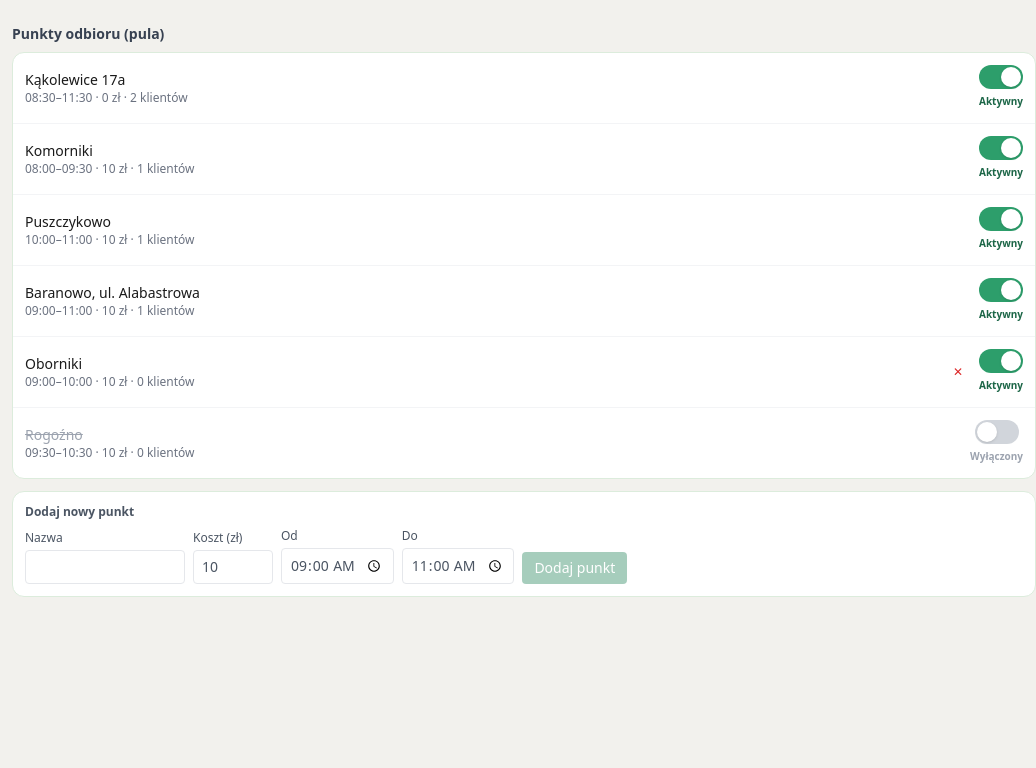
PointsManager — pula punktów na Pulpicie › pokazuje 6 punktów z seedu (4 bazowe + 2 demo); dodanie nowego zapisuje do store
The width and height of the screenshot is (1036, 768).
Expected: the text "Kąkolewice 17a" is shown, [25,70,125,89]
Step 1. Type "Wągrowiec" into the field labelled "Nazwa" → (105, 567), box [25,550,185,584]
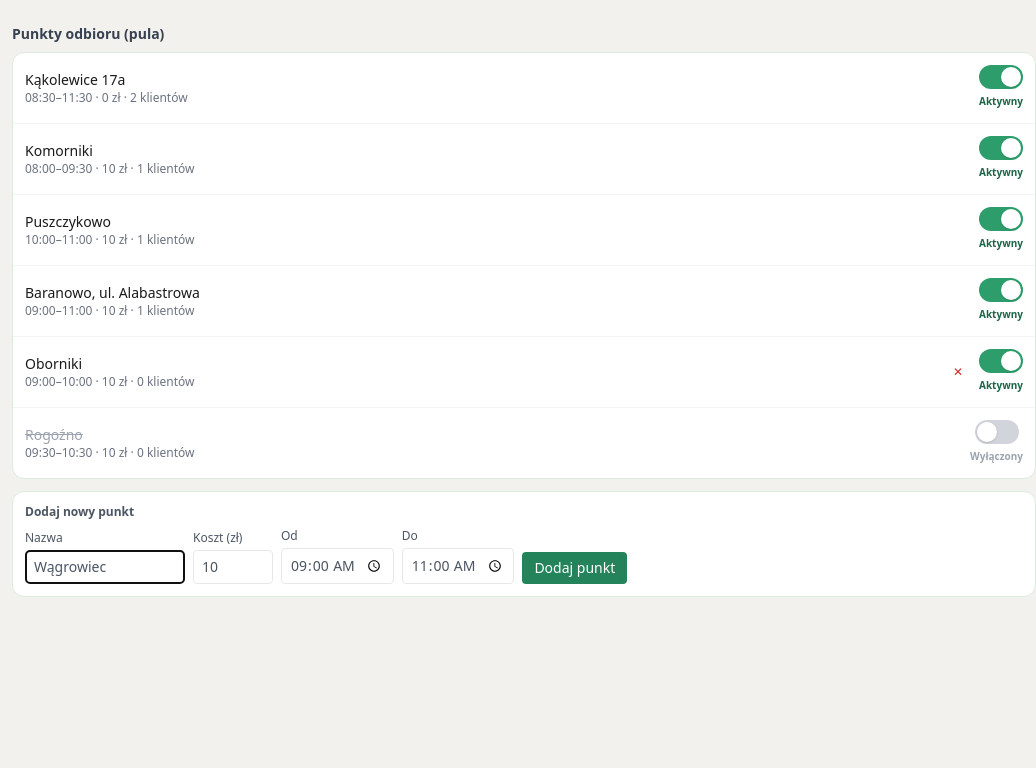
Step 2. Click the button "Dodaj punkt" → (575, 568), box [522,552,627,584]
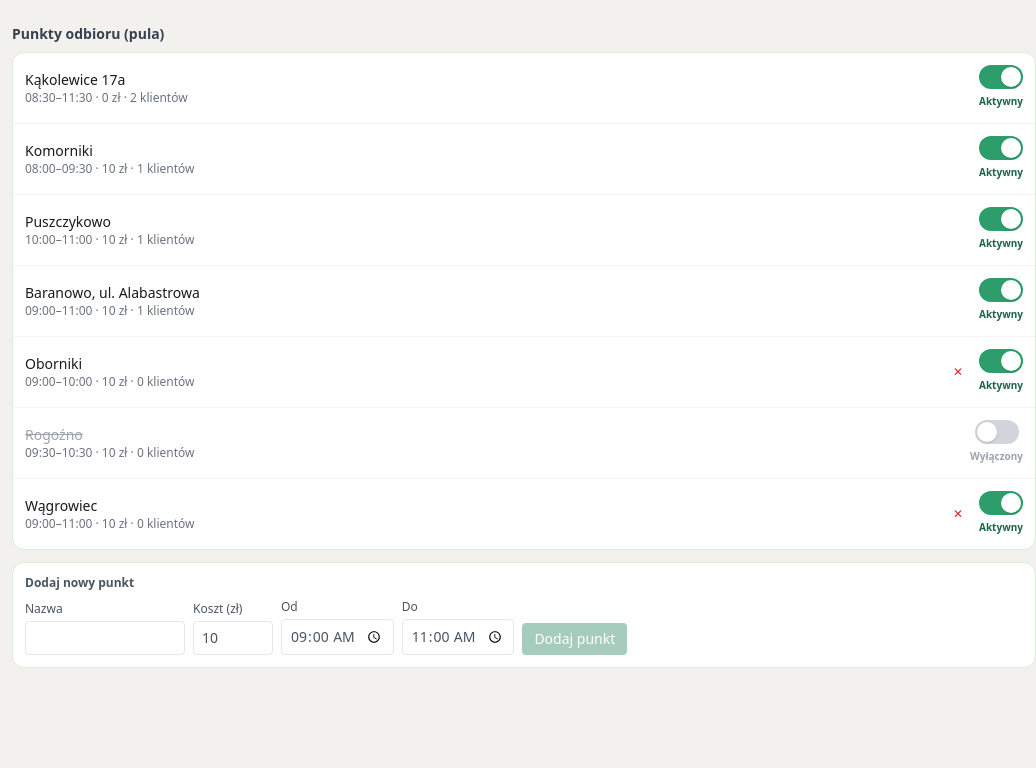
Expected: the text "Wągrowiec" is shown, [25,496,97,515]
